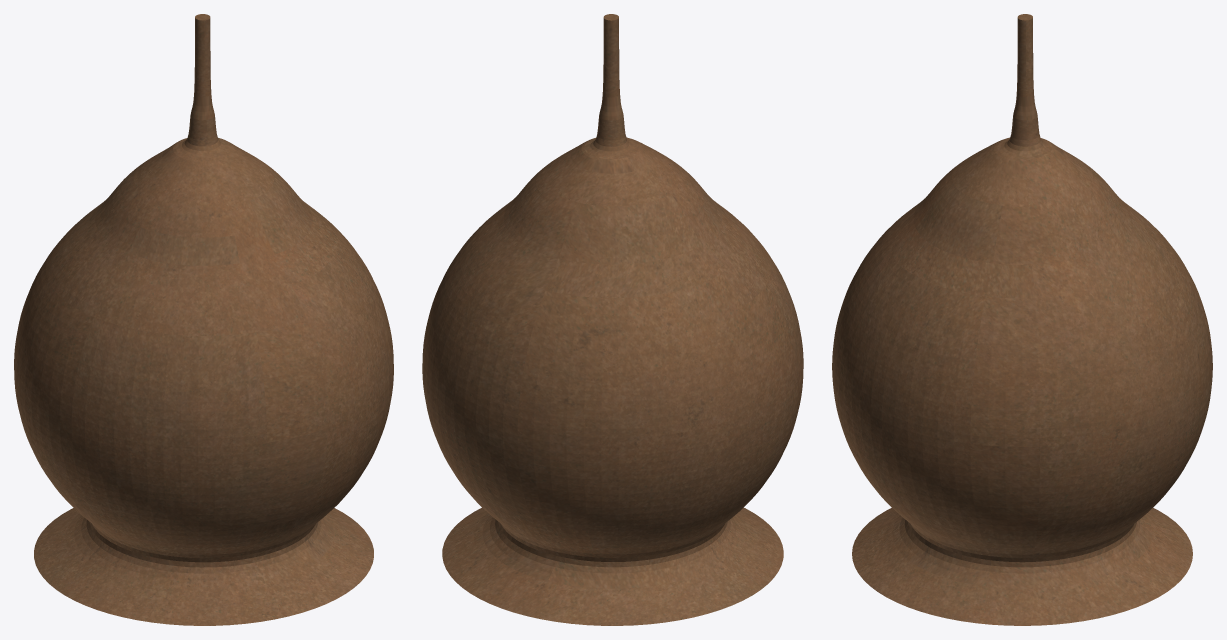
The model's file is eggbowl.glb.
The picture shows the model from 3 angles, left to right: view 1: azimuth 30°, elevation 25°; view 2: azimuth 150°, elevation 25°; view 3: azimuth 270°, elevation 25°; orthographic projection.
Visible parts, largest first — view 1: Sphere; view 2: Sphere; view 3: Sphere.
Boxes of the visible parts, x1,y1,x2,y2 form: Sphere: (14, 14, 393, 625); Sphere: (422, 14, 803, 625); Sphere: (832, 14, 1212, 625).
Size of the model in its own units: 1.94 by 3.02 by 1.94.
1 material, 1 textured.
